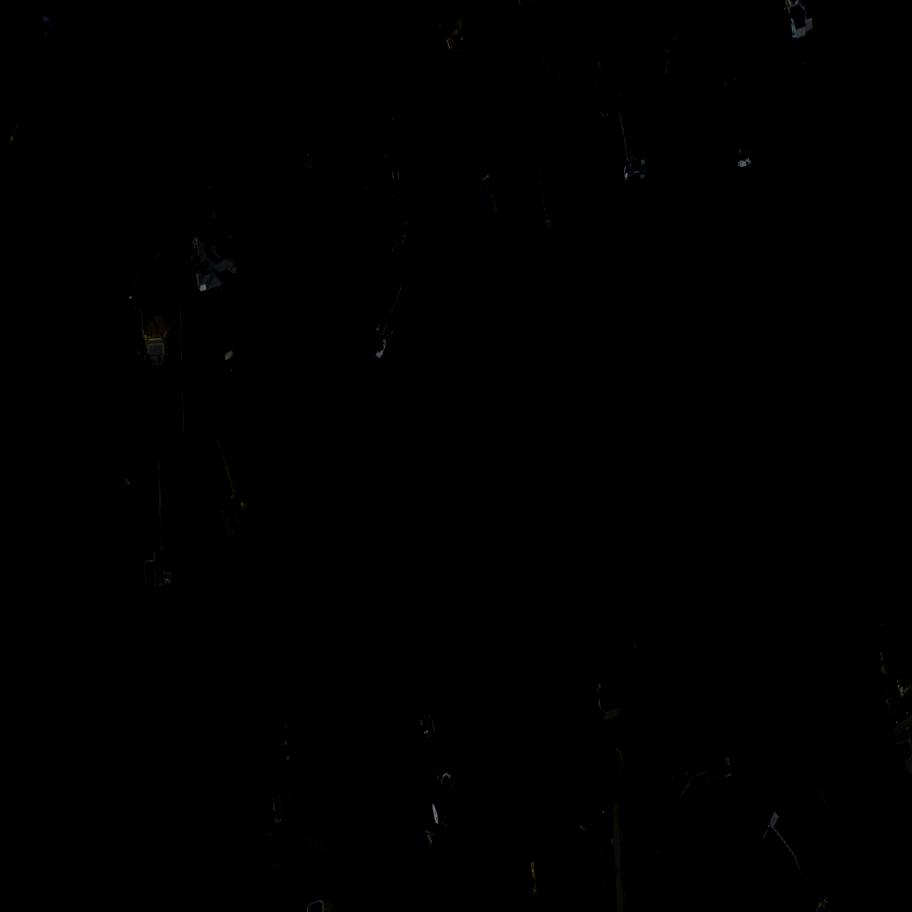ship: (374, 335, 392, 365), (736, 156, 756, 172), (364, 318, 376, 339), (435, 741, 439, 753)
small-vehicle: (426, 828, 438, 848)
